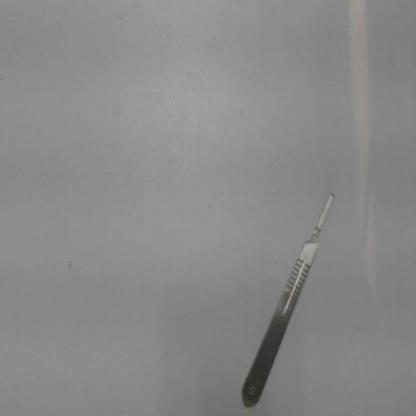No.4 BP Handle: (234, 177, 344, 411)
